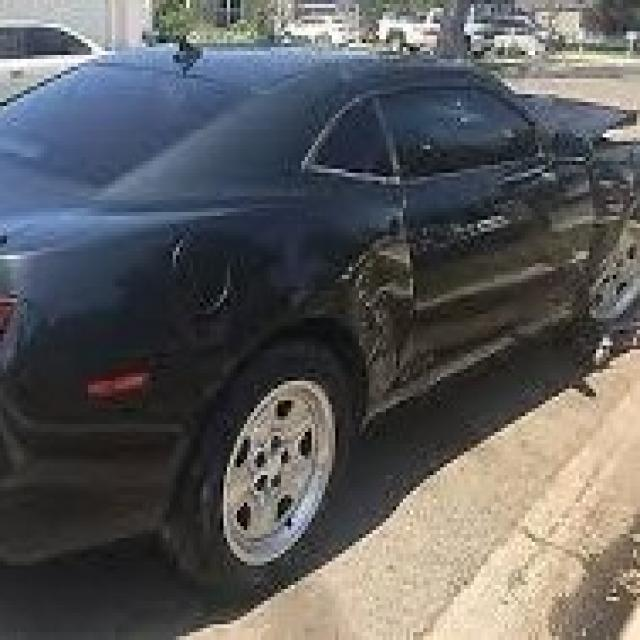moderate: (463, 74, 640, 362)
